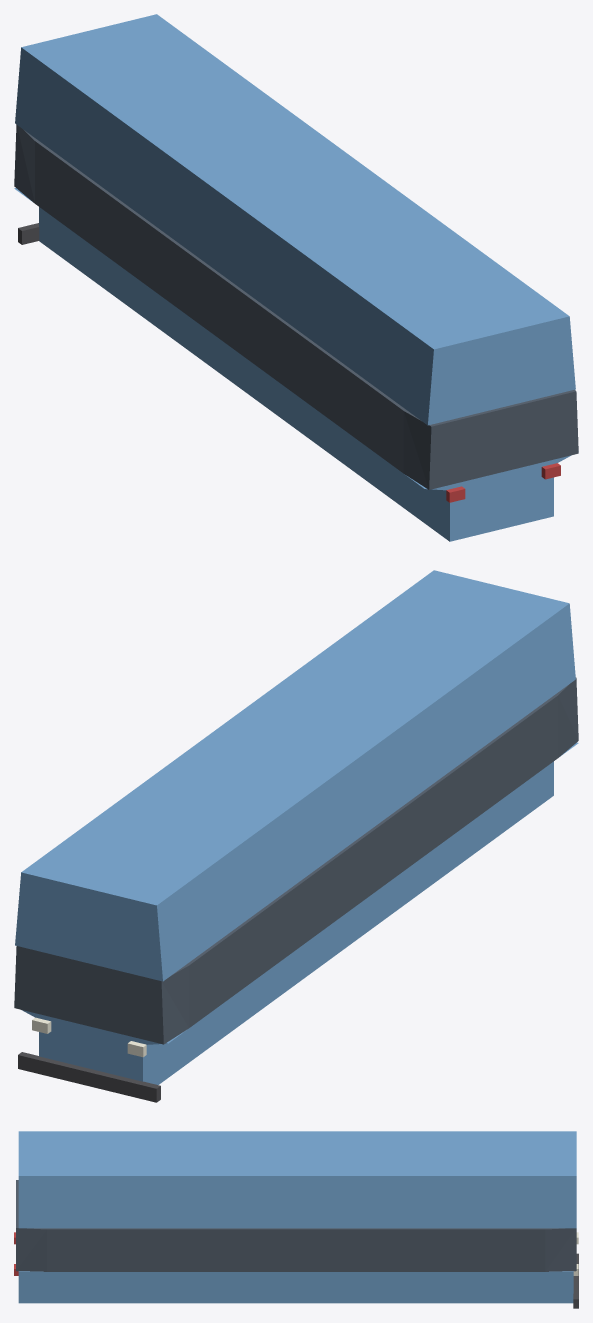
The model's file is city_bus.glb.
The picture shows the model from 3 angles, top to bottom: view 1: azimuth 30°, elevation 25°; view 2: azimuth 150°, elevation 25°; view 3: azimuth 270°, elevation 25°; orthographic projection. The views are drawn at different scales.
Visible parts, largest first — view 1: City Bus; view 2: City Bus; view 3: City Bus.
Part boxes in pixels (left/top/right/bottom): City Bus: left=14, top=14, right=578, bottom=541; City Bus: left=14, top=570, right=578, bottom=1102; City Bus: left=14, top=1131, right=578, bottom=1308.
Bounding box in the file's own units: 2.55 × 3.1 × 11.97.
